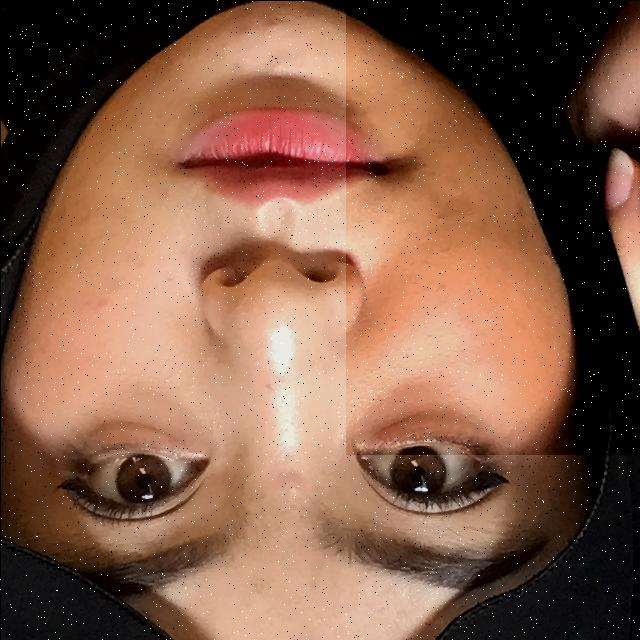ibu: (345, 0, 640, 454)
